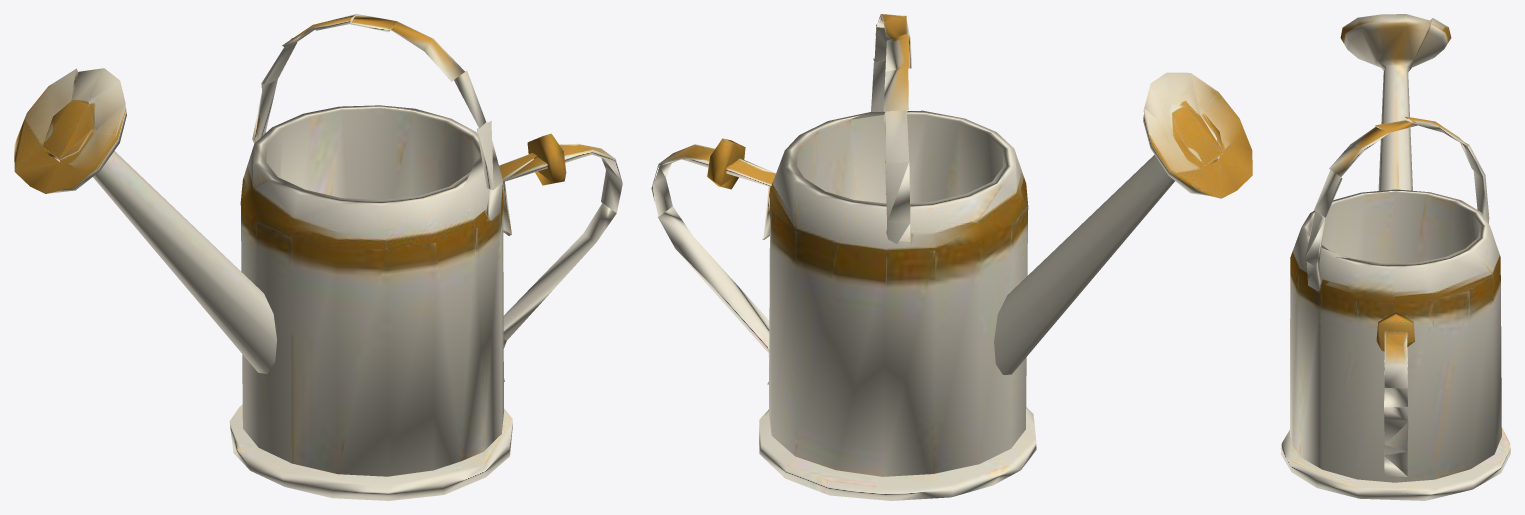
Rendered from watering-can.glb.
The picture shows the model from 3 angles, left to right: view 1: azimuth 30°, elevation 25°; view 2: azimuth 150°, elevation 25°; view 3: azimuth 270°, elevation 25°; orthographic projection. The views are drawn at different scales.
Visible parts, largest first — view 1: watering-can; view 2: watering-can; view 3: watering-can.
Part boxes in pixels (left/top/right/bottom): watering-can: left=14, top=14, right=622, bottom=500; watering-can: left=651, top=14, right=1252, bottom=500; watering-can: left=1281, top=14, right=1510, bottom=500.
Size of the model in its own units: 0.4 by 0.282 by 0.1727.
1 material, 1 textured.
